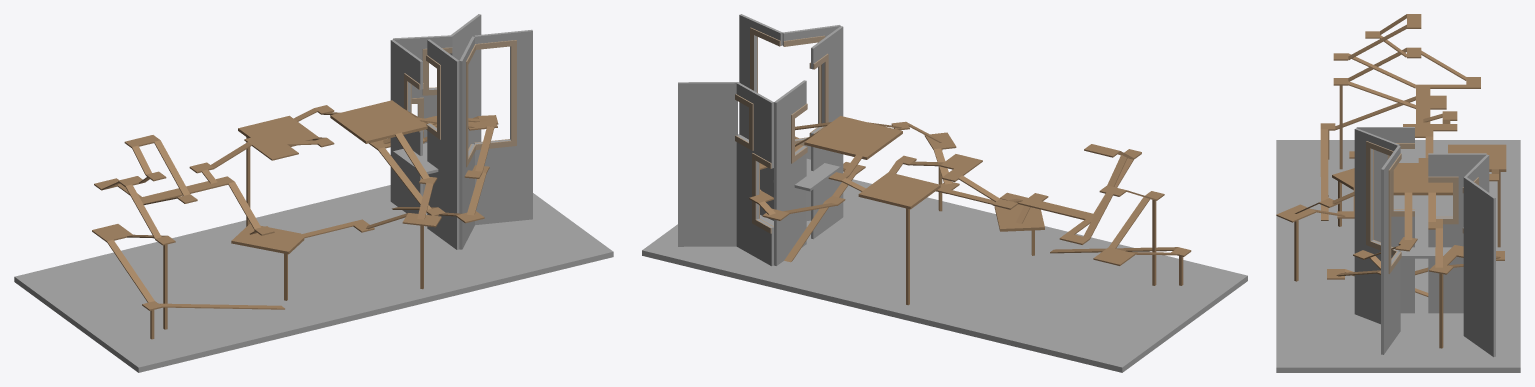
The picture shows the model from 3 angles, left to right: view 1: azimuth 30°, elevation 25°; view 2: azimuth 150°, elevation 25°; view 3: azimuth 270°, elevation 25°; orthographic projection. The views are drawn at different scales.
Visible parts, largest first — view 1: 01 DIZUO, 02 JIE, 03 DING, 05AN, 04 ZHUAN; view 2: 01 DIZUO, 05AN, 03 DING, 04 ZHUAN, 02 JIE; view 3: 01 DIZUO, 03 DING, 02 JIE, 05AN, 04 ZHUAN.
Part boxes in pixels (box(x1,y1,x2,y2)): 01 DIZUO: box(14, 100, 613, 372); 02 JIE: box(459, 29, 532, 249); 03 DING: box(390, 39, 459, 249); 05AN: box(449, 14, 481, 148); 04 ZHUAN: box(393, 35, 452, 194); 01 DIZUO: box(642, 116, 1247, 372); 05AN: box(678, 82, 737, 246); 03 DING: box(773, 26, 843, 265); 04 ZHUAN: box(735, 82, 773, 266); 02 JIE: box(739, 14, 840, 220); 01 DIZUO: box(1276, 14, 1520, 372); 03 DING: box(1356, 127, 1486, 313); 02 JIE: box(1354, 128, 1401, 354); 05AN: box(1463, 177, 1495, 357); 04 ZHUAN: box(1462, 154, 1489, 233).
Size of the model in its own units: 9.23 by 3.6 by 4.18.
